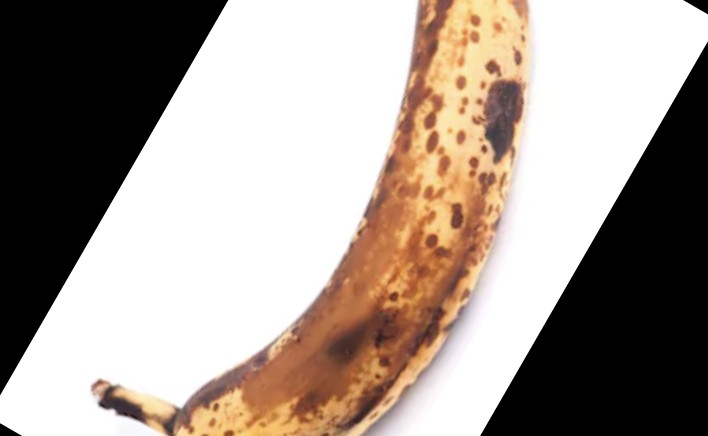rotten_banana: (91, 1, 532, 436)
